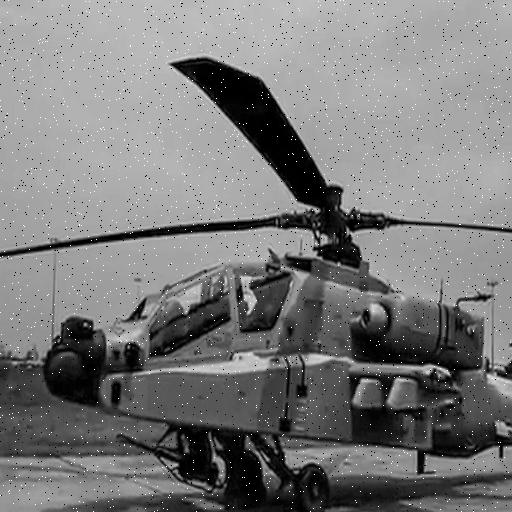helicopter: (14, 87, 512, 512)
